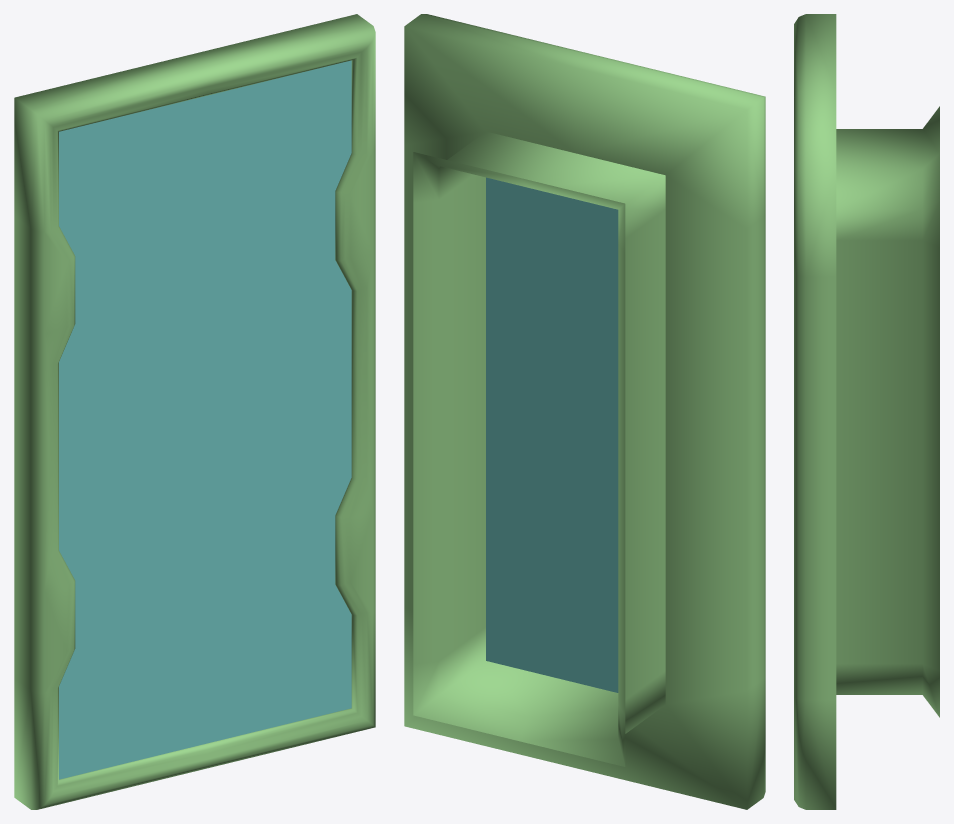
Rendered from CeilingLightRectangle.fbx.
The picture shows the model from 3 angles, left to right: view 1: azimuth 30°, elevation 25°; view 2: azimuth 150°, elevation 25°; view 3: azimuth 270°, elevation 25°; orthographic projection. The views are drawn at different scales.
Parts seen in each view (by area): view 1: CeilingLightRectangle; view 2: CeilingLightRectangle; view 3: CeilingLightRectangle.
Part boxes in pixels (box(x1,y1,x2,y2)): CeilingLightRectangle: box(14, 14, 375, 809); CeilingLightRectangle: box(404, 14, 765, 809); CeilingLightRectangle: box(794, 14, 939, 809).
Size of the model in its own units: 2.1 by 4.1 by 0.8441.
